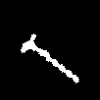half_double_crochet: (21, 34, 78, 82)
